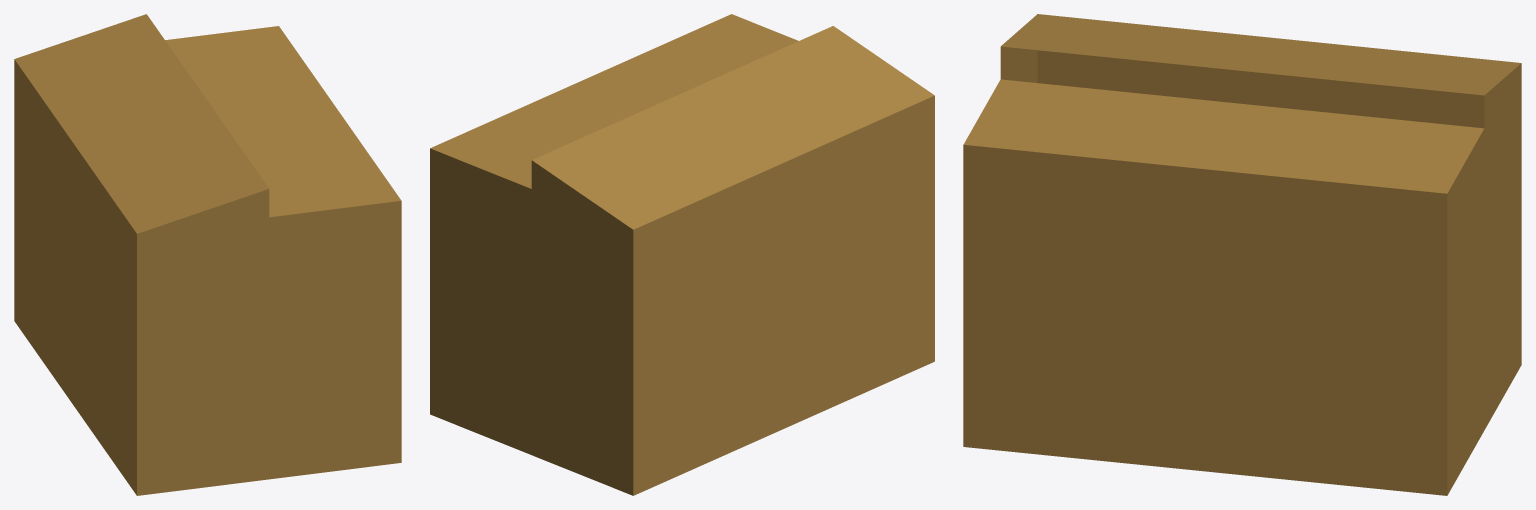
Rendered from kardusfbx.fbx.
3 renders of one model, left to right at view 1: azimuth 30°, elevation 25°; view 2: azimuth 150°, elevation 25°; view 3: azimuth 270°, elevation 25°, orthographic. The views are drawn at different scales.
Parts seen in each view (by area): view 1: Cube.029; view 2: Cube.029; view 3: Cube.029.
Part boxes in pixels (<box>): Cube.029: <box>14,14,401,495</box>; Cube.029: <box>430,14,934,495</box>; Cube.029: <box>963,14,1521,495</box>.
Size of the model in its own units: 131 by 86.63 by 99.69.
